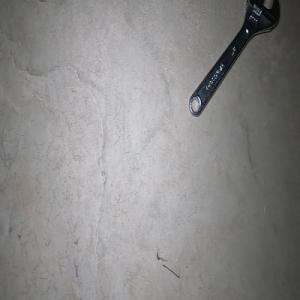Wrench: (188, 0, 279, 116)
